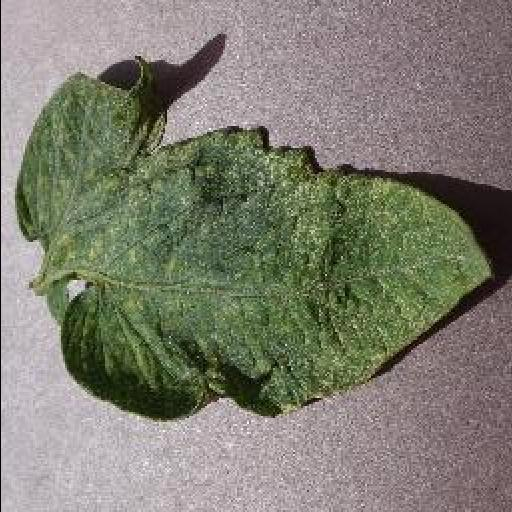disease_tomato: (13, 58, 495, 422)
